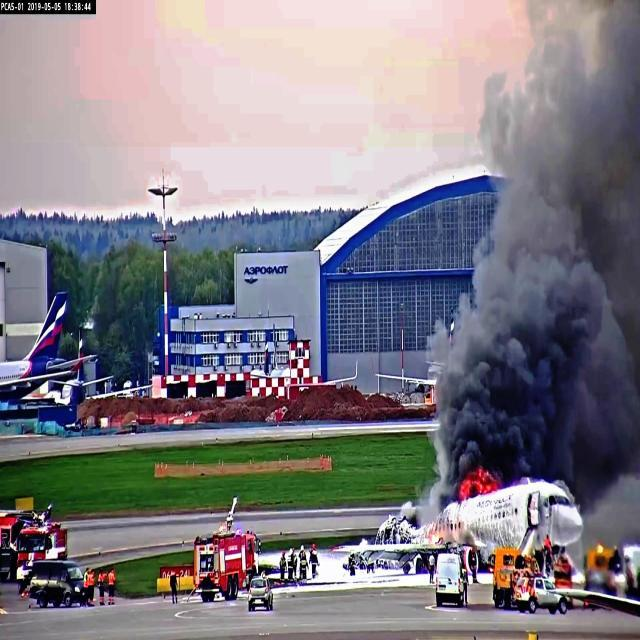Fire: (468, 464, 496, 493)
Smoke: (504, 66, 640, 482), (443, 316, 569, 450)
